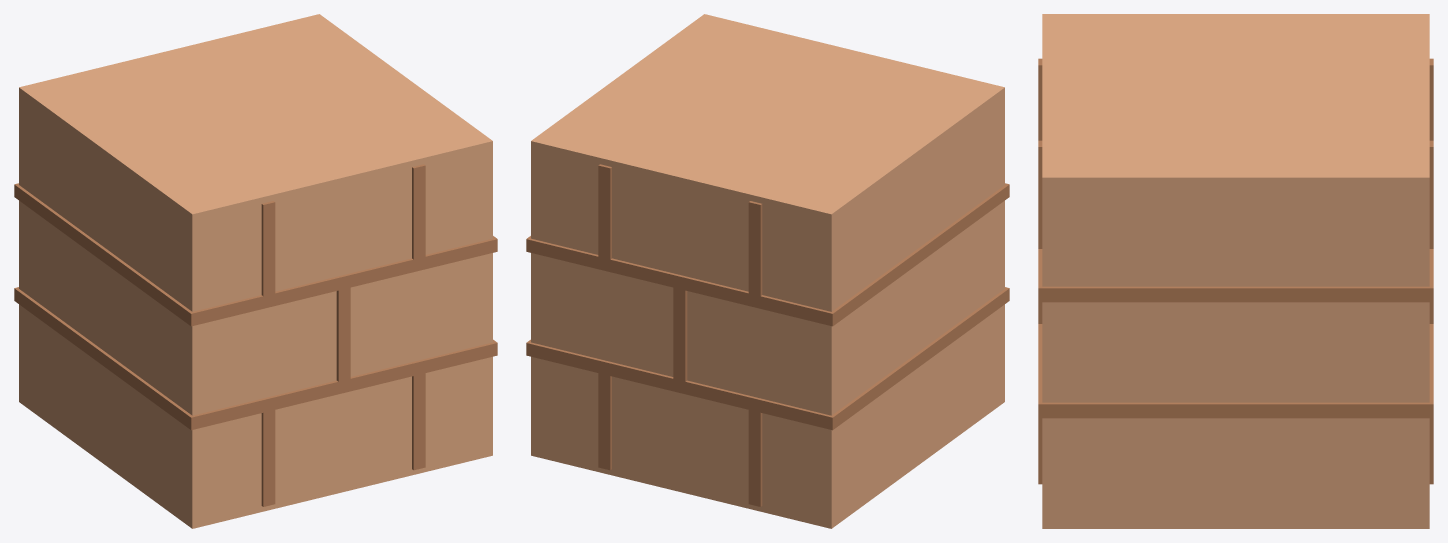
The model's file is block_brick.glb.
3 views of the same model, side by side, from view 1: azimuth 30°, elevation 25°; view 2: azimuth 150°, elevation 25°; view 3: azimuth 270°, elevation 25° (orthographic). The views are drawn at different scales.
Parts seen in each view (by area): view 1: block_brick; view 2: block_brick; view 3: block_brick.
Part boxes in pixels (box(x1,y1,x2,y2)): block_brick: box(14, 14, 497, 528); block_brick: box(526, 14, 1009, 528); block_brick: box(1038, 14, 1433, 528).
Size of the model in its own units: 1.02 by 1 by 1.02.
